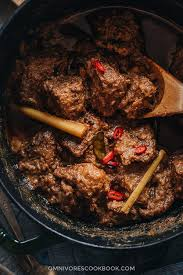rendang: (3, 24, 183, 235)
